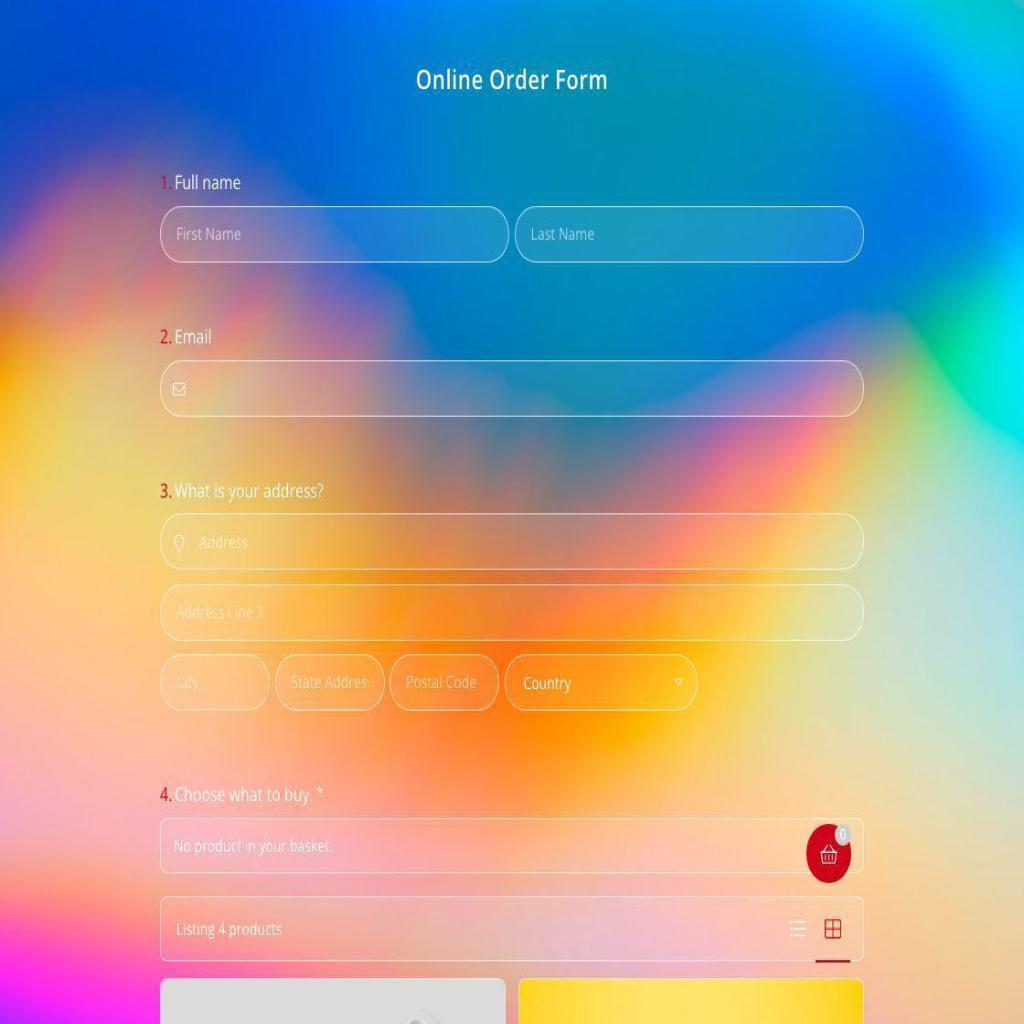dropdown: (503, 652, 703, 714)
icon: (785, 913, 809, 947), (817, 838, 841, 868), (824, 917, 843, 942)
input: (157, 891, 867, 964), (159, 813, 867, 877), (159, 510, 866, 574), (159, 359, 867, 418), (160, 584, 865, 642), (515, 202, 866, 265), (158, 206, 511, 265), (158, 651, 273, 713), (388, 652, 502, 713), (275, 651, 387, 713)
label: (172, 781, 325, 808), (172, 478, 324, 500), (174, 174, 242, 192), (175, 327, 214, 348)
